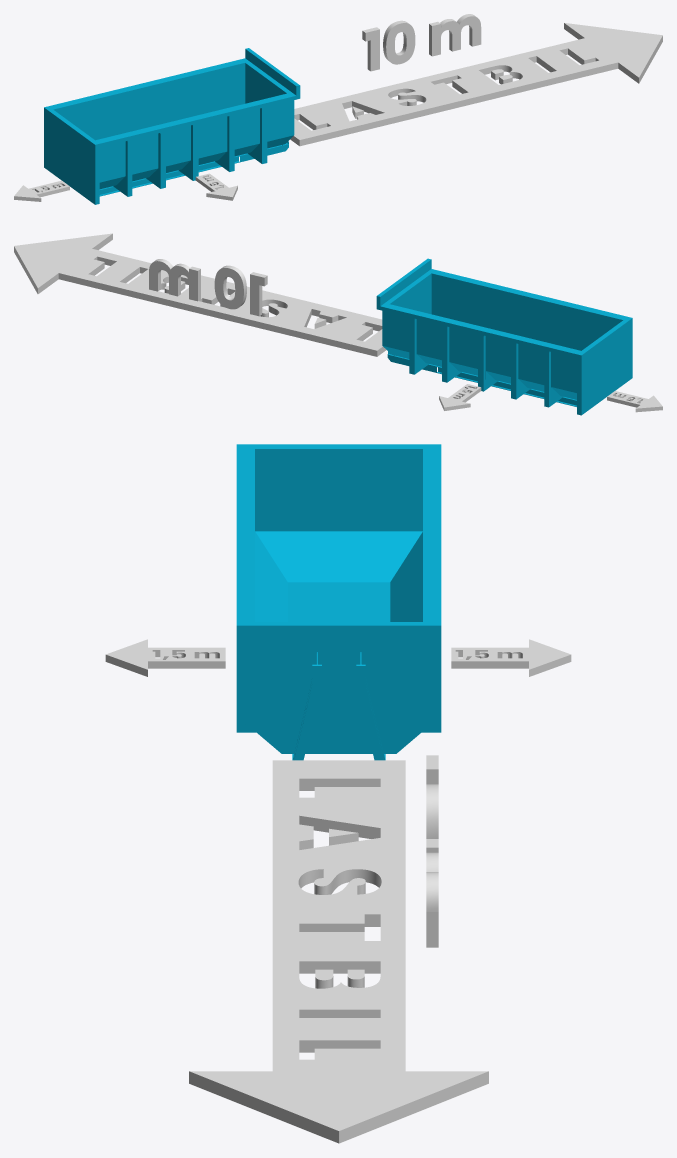
The picture shows the model from 3 angles, top to bottom: view 1: azimuth 30°, elevation 25°; view 2: azimuth 150°, elevation 25°; view 3: azimuth 270°, elevation 25°; orthographic projection. The views are drawn at different scales.
Visible parts, largest first — view 1: Null, Plane.029, Text.4, m, Plane.4 (×2), B, S, A; view 2: Null, Plane.029, Text.4, m, Plane.4 (×2), A; view 3: Null, Plane.029, Plane.4 (×2), m, A, B, S, Text.4.
Boxes of the visible parts, x1=… form: Null: x1=44, y1=48, x2=300, y2=204; Plane.029: x1=290, y1=23, x2=662, y2=146; Text.4: x1=362, y1=20, x2=415, y2=71; m: x1=429, y1=14, x2=481, y2=56; Plane.4 (×2): x1=14, y1=173, x2=237, y2=201; B: x1=479, y1=65, x2=522, y2=84; S: x1=388, y1=88, x2=426, y2=105; A: x1=342, y1=101, x2=384, y2=119; Null: x1=376, y1=258, x2=632, y2=415; Plane.029: x1=14, y1=233, x2=386, y2=356; Text.4: x1=214, y1=265, x2=267, y2=316; m: x1=149, y1=259, x2=200, y2=301; Plane.4 (×2): x1=439, y1=384, x2=662, y2=412; A: x1=304, y1=309, x2=346, y2=328; Null: x1=236, y1=444, x2=441, y2=760; Plane.029: x1=189, y1=760, x2=488, y2=1143; Plane.4 (×2): x1=105, y1=639, x2=571, y2=676; m: x1=426, y1=839, x2=438, y2=947; A: x1=299, y1=815, x2=380, y2=849; B: x1=299, y1=961, x2=380, y2=988; S: x1=298, y1=869, x2=381, y2=894; Text.4: x1=426, y1=755, x2=438, y2=838.
Size of the model in its own units: 1840 by 206 by 572.
